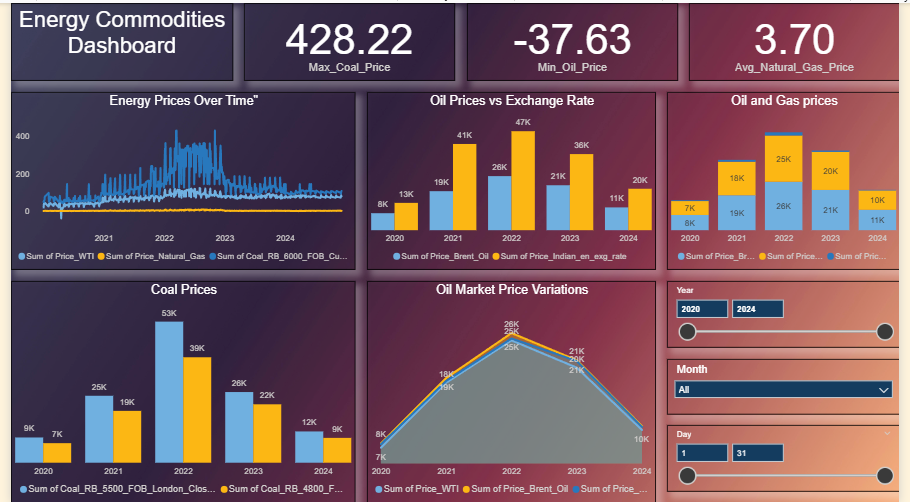

What the dashboard file says about the page in this screenshot:
{"tool":"powerbi","page":{"name":"Page 1","canvas":[1280,720],"ordinal":0},"visuals":[{"type":"lineChart","title":"Energy Prices Over Time\"","fields":{"Category":["CSV.Date"],"Y":["Sum(CSV.Price_WTI)","Sum(CSV.Price_Natural_Gas)","Sum(CSV.Coal_RB_6000_FOB_CurrentWeek_Avg_USD)"]},"box":[0,128,496,256],"z":0},{"type":"clusteredColumnChart","title":"Coal Prices","fields":{"Category":["CSV.Date.Variation.Date Hierarchy.Year","CSV.Date.Variation.Date Hierarchy.Quarter","CSV.Date.Variation.Date Hierarchy.Month","CSV.Date.Variation.Date Hierarchy.Day"],"Y":["Sum(CSV.Coal_RB_5500_FOB_London_Close_USD)","Sum(CSV.Coal_RB_4800_FOB_London_Close_USD)"]},"box":[0,400,496,320],"z":1000},{"type":"clusteredColumnChart","title":"Oil Prices vs Exchange Rate","fields":{"Category":["CSV.Date.Variation.Date Hierarchy.Year","CSV.Date.Variation.Date Hierarchy.Quarter","CSV.Date.Variation.Date Hierarchy.Month","CSV.Date.Variation.Date Hierarchy.Day"],"Y":["Sum(CSV.Price_Brent_Oil)","Sum(CSV.Price_Indian_en_exg_rate)"]},"box":[512,128,416,256],"z":2000},{"type":"areaChart","title":"Oil Market Price Variations","fields":{"Category":["CSV.Date.Variation.Date Hierarchy.Year","CSV.Date.Variation.Date Hierarchy.Quarter","CSV.Date.Variation.Date Hierarchy.Month","CSV.Date.Variation.Date Hierarchy.Day"],"Y":["Sum(CSV.Price_WTI)","Sum(CSV.Price_Brent_Oil)","Sum(CSV.Price_Dubai_Brent_Oil)"]},"box":[512,400,416,320],"z":3000},{"type":"columnChart","title":"Oil and Gas prices ","fields":{"Category":["CSV.Date.Variation.Date Hierarchy.Year"],"Y":["Sum(CSV.Price_Brent_Oil)","Sum(CSV.Price_WTI)","Sum(CSV.Price_Natural_Gas)"]},"box":[944,128,336,256],"z":5000},{"type":"card","fields":{"Values":["CSV.Max_Coal_Price"]},"box":[336,0,304,112],"z":6000},{"type":"card","fields":{"Values":["CSV.Min_Oil_Price"]},"box":[656,0,304,112],"z":7000},{"type":"card","fields":{"Values":["CSV.Avg_Natural_Gas_Price"]},"box":[976,0,304,112],"z":8000},{"type":"textbox","box":[0,0,320,112],"z":8001},{"type":"slicer","fields":{"Values":["CSV.Year"]},"box":[944,400,336,96],"z":8002},{"type":"slicer","fields":{"Values":["CSV.Month"]},"box":[944,512,336,80],"z":8003},{"type":"slicer","fields":{"Values":["CSV.Day"]},"box":[944,608,336,96],"z":8004}]}

Visuals, with their boxes in screenshot pixels (x1, y1, x2, y2), scaled from the page's 1280x720 canvas onto the 910x502 screenshot:
"Energy Prices Over Time"" lineChart: 0:89:353:268
"Coal Prices" clusteredColumnChart: 0:279:353:501
"Oil Prices vs Exchange Rate" clusteredColumnChart: 364:89:660:268
"Oil Market Price Variations" areaChart: 364:279:660:501
"Oil and Gas prices " columnChart: 671:89:909:268
card - CSV.Max_Coal_Price: 239:0:455:78
card - CSV.Min_Oil_Price: 466:0:682:78
card - CSV.Avg_Natural_Gas_Price: 694:0:909:78
textbox: 0:0:228:78
slicer - CSV.Year: 671:279:909:346
slicer - CSV.Month: 671:357:909:413
slicer - CSV.Day: 671:424:909:491
